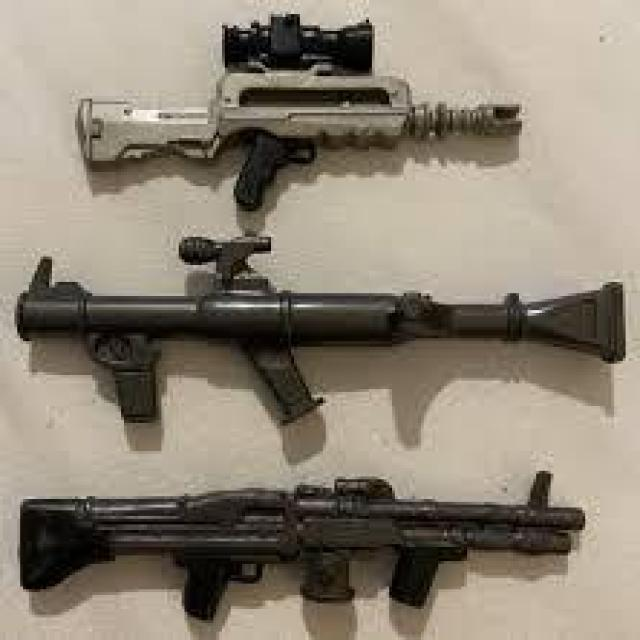bazooka: (19, 222, 632, 438)
